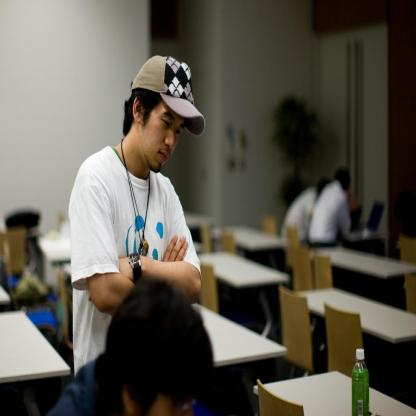board: (348, 199, 384, 236), (353, 349, 370, 416)
